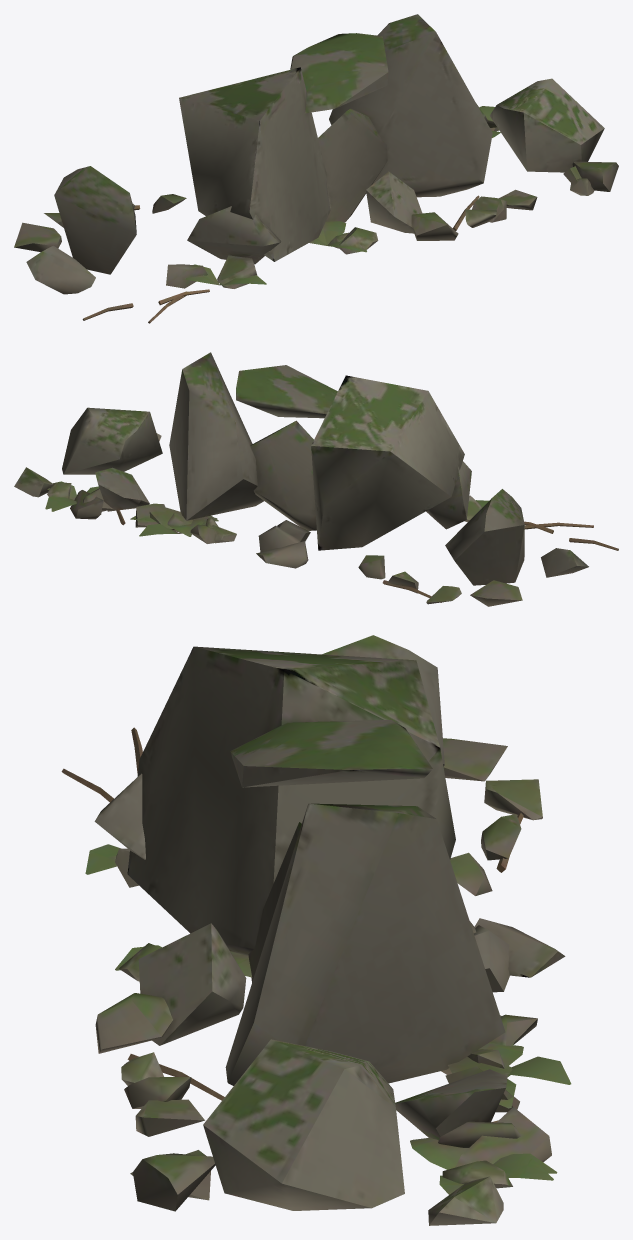
The model's file is ridge-forest.glb.
3 views of the same model, one above another, from view 1: azimuth 30°, elevation 25°; view 2: azimuth 150°, elevation 25°; view 3: azimuth 270°, elevation 25° (orthographic). The views are drawn at different scales.
Visible parts, largest first — view 1: ridge-forest; view 2: ridge-forest; view 3: ridge-forest.
Boxes of the visible parts, x1=… form: ridge-forest: x1=14, y1=14, x2=618, y2=323; ridge-forest: x1=14, y1=352, x2=618, y2=606; ridge-forest: x1=61, y1=635, x2=571, y2=1225.
Bounding box in the file's own units: 3.06 × 0.8449 × 1.29.
1 material, 1 textured.
